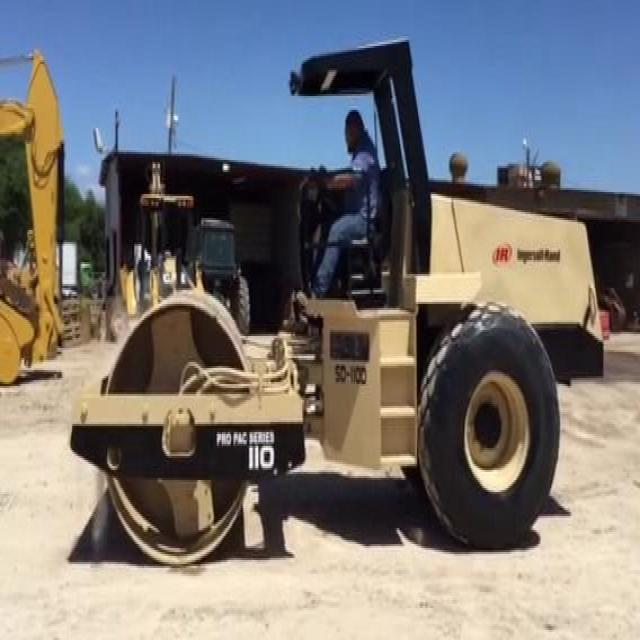excavator: (0, 64, 63, 386)
